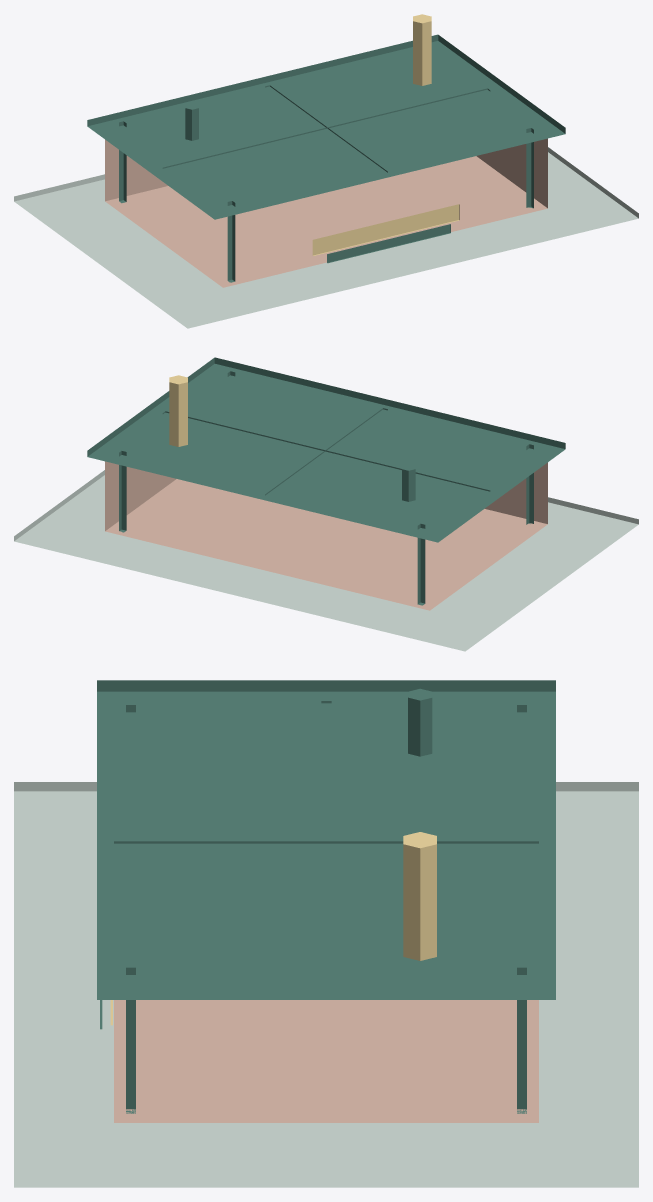
The model's file is glass_plant.glb.
3 renders of one model, top to bottom at view 1: azimuth 30°, elevation 25°; view 2: azimuth 150°, elevation 25°; view 3: azimuth 270°, elevation 25°, orthographic. The views are drawn at different scales.
Parts seen in each view (by area): view 1: Roof, Foundation, Walls, Details, Frame; view 2: Roof, Walls, Foundation, Frame, Details; view 3: Roof, Foundation, Walls, Details, Frame.
Boxes of the visible parts, <box> form: Roof: <box>87,34,565,219</box>; Foundation: <box>14,147,638,328</box>; Walls: <box>105,138,547,287</box>; Details: <box>185,14,459,263</box>; Frame: <box>119,85,533,282</box>; Roof: <box>87,357,565,542</box>; Walls: <box>105,461,547,610</box>; Foundation: <box>14,470,638,651</box>; Frame: <box>119,371,533,605</box>; Details: <box>169,375,415,501</box>; Roof: <box>97,680,555,999</box>; Foundation: <box>14,782,638,1187</box>; Walls: <box>114,1000,538,1122</box>; Details: <box>100,688,436,1029</box>; Frame: <box>114,701,538,1113</box>.
Size of the model in its own units: 60 by 18.1 by 40.
